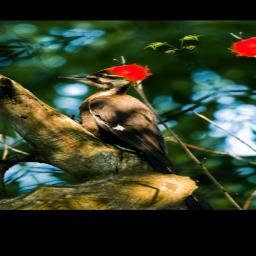Woodpecker: (29, 58, 233, 185)
